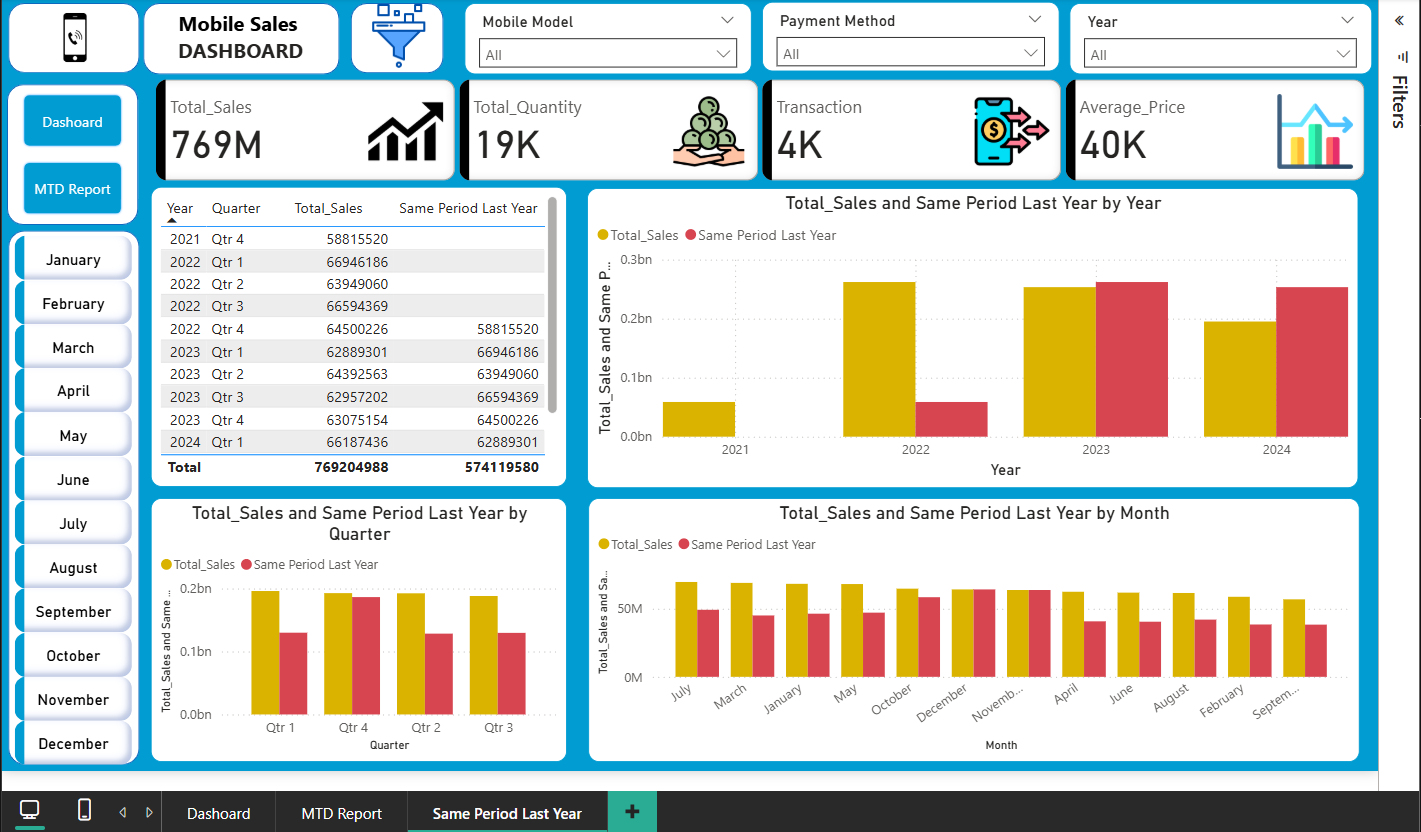

What the dashboard file says about the page in this screenshot:
{"tool":"powerbi","page":{"name":"Same Period Last Year","canvas":[1280,720],"ordinal":2},"visuals":[{"type":"shape","box":[5.8,4.7,122.1,65.1],"z":0},{"type":"image","box":[26.7,3.5,82.6,66.3],"z":1000},{"type":"shape","box":[4.9,80.2,122.2,131],"z":2000},{"type":"cardVisual","fields":{"Data":["Sales_Data.Total_Sales","Sales_Data.Total_Quantity","Sales_Data.Transaction","Sales_Data.Average_Price"]},"box":[138.4,70.9,1136,104.7],"z":3000},{"type":"slicer","fields":{"Values":["Sales_Data.Mobile Model"]},"box":[430.2,4.7,267.4,66.3],"z":4000},{"type":"slicer","fields":{"Values":["Sales_Data.Payment Method"]},"box":[707,3.5,276.7,65.1],"z":5000},{"type":"slicer","fields":{"Values":["Custom_Calender.Date.Variation.Date Hierarchy.Year"]},"box":[993,4.7,281.4,66.3],"z":6000},{"type":"shape","box":[324.7,4.9,86.4,65.4],"z":7000},{"type":"image","box":[313.6,0,109.9,70.4],"z":8000},{"type":"shape","box":[130.9,4.9,182.7,66.7],"z":9000},{"type":"textbox","box":[154.3,6.2,134.6,59.3],"z":10000},{"type":"shape","box":[5.8,216.3,122.1,497],"z":11000},{"type":"advancedSlicerVisual","fields":{"Values":["Custom_Calender.Date.Variation.Date Hierarchy.Month"]},"box":[7.4,216.1,119.8,503.7],"z":12000},{"type":"tableEx","fields":{"Values":["Custom_Calender.Date.Variation.Date Hierarchy.Year","Custom_Calender.Date.Variation.Date Hierarchy.Quarter","Sales_Data.Total_Sales","Sales_Data.Same Period Last Year"]},"box":[138.4,175.6,387.2,279.1],"z":13000},{"type":"clusteredColumnChart","fields":{"Category":["Custom_Calender.Date.Variation.Date Hierarchy.Year","Custom_Calender.Date.Variation.Date Hierarchy.Quarter"],"Y":["Sales_Data.Total_Sales","Sales_Data.Same Period Last Year"]},"box":[544.2,176.7,717.4,279.1],"z":14000},{"type":"clusteredColumnChart","fields":{"Category":["Custom_Calender.Date.Variation.Date Hierarchy.Year","Custom_Calender.Date.Variation.Date Hierarchy.Quarter"],"Y":["Sales_Data.Total_Sales","Sales_Data.Same Period Last Year"]},"box":[138.4,465.1,387.2,245.3],"z":15000},{"type":"clusteredColumnChart","fields":{"Category":["Custom_Calender.Date.Variation.Date Hierarchy.Year","Custom_Calender.Date.Variation.Date Hierarchy.Quarter","Custom_Calender.Date.Variation.Date Hierarchy.Month","Custom_Calender.Date.Variation.Date Hierarchy.Day"],"Y":["Sales_Data.Total_Sales","Sales_Data.Same Period Last Year"]},"box":[545.4,465.1,717.4,245.3],"z":16000},{"type":"pageNavigator","box":[18.6,88.4,94.2,115.1],"z":17000}]}

Visuals, with their boxes on the page's 1280x720 design canvas (x1, y1, x2, y2). These are canvas units, not pixel positions in the 1421x832 screenshot, which may show the page scaled, cropped or inside an application window:
shape: bbox=[6, 5, 128, 70]
image: bbox=[27, 4, 109, 70]
shape: bbox=[5, 80, 127, 211]
cardVisual - Sales_Data.Total_Sales x Sales_Data.Total_Quantity: bbox=[138, 71, 1274, 176]
slicer - Sales_Data.Mobile Model: bbox=[430, 5, 698, 71]
slicer - Sales_Data.Payment Method: bbox=[707, 4, 984, 69]
slicer - Custom_Calender.Date.Variation.Date Hierarchy.Year: bbox=[993, 5, 1274, 71]
shape: bbox=[325, 5, 411, 70]
image: bbox=[314, 0, 424, 70]
shape: bbox=[131, 5, 314, 72]
textbox: bbox=[154, 6, 289, 66]
shape: bbox=[6, 216, 128, 713]
advancedSlicerVisual - Custom_Calender.Date.Variation.Date Hierarchy.Month: bbox=[7, 216, 127, 720]
tableEx - Custom_Calender.Date.Variation.Date Hierarchy.Year x Custom_Calender.Date.Variation.Date Hierarchy.Quarter: bbox=[138, 176, 526, 455]
clusteredColumnChart - Custom_Calender.Date.Variation.Date Hierarchy.Year x Custom_Calender.Date.Variation.Date Hierarchy.Quarter: bbox=[544, 177, 1262, 456]
clusteredColumnChart - Custom_Calender.Date.Variation.Date Hierarchy.Year x Custom_Calender.Date.Variation.Date Hierarchy.Quarter: bbox=[138, 465, 526, 710]
clusteredColumnChart - Custom_Calender.Date.Variation.Date Hierarchy.Year x Custom_Calender.Date.Variation.Date Hierarchy.Quarter: bbox=[545, 465, 1263, 710]
pageNavigator: bbox=[19, 88, 113, 204]
